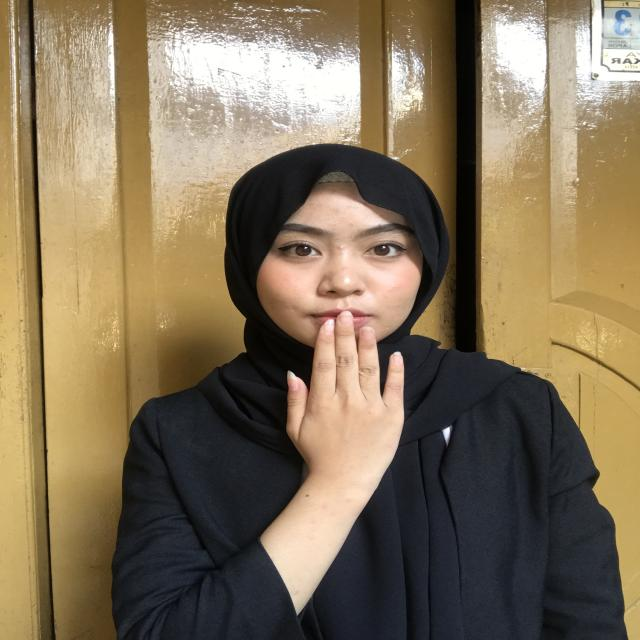ganteng: (276, 313, 430, 497)
